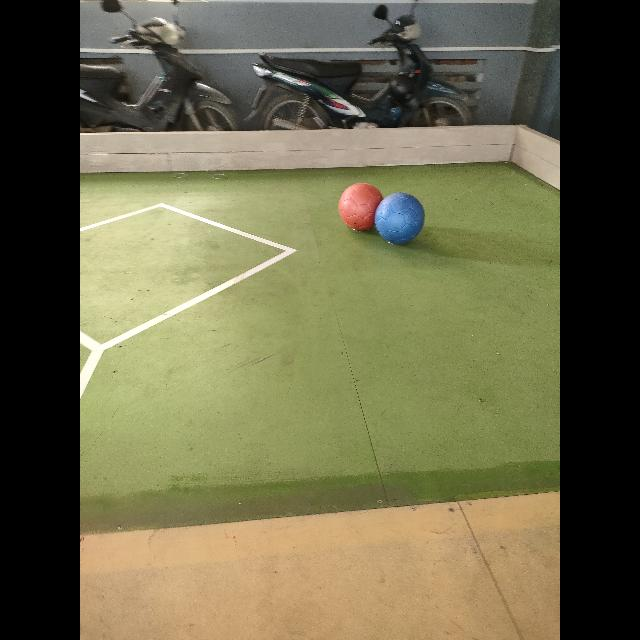B: (375, 192, 425, 244)
R: (339, 182, 382, 231)
